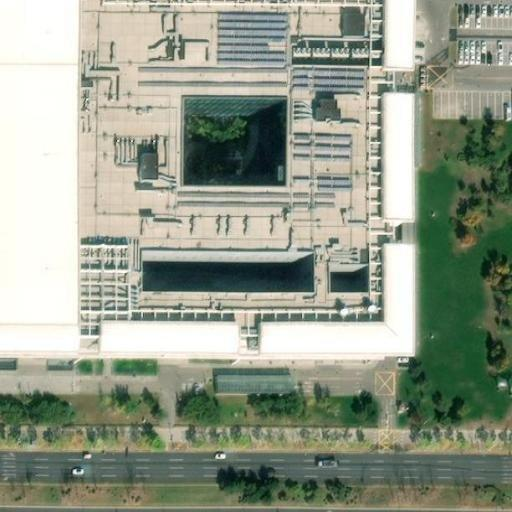building: (211, 370, 292, 393), (211, 294, 221, 357)
